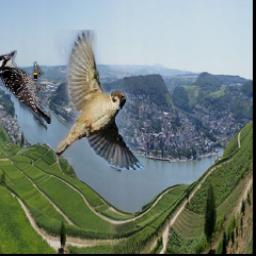Sparrow: (53, 31, 145, 171)
Woodpecker: (0, 50, 52, 124)
